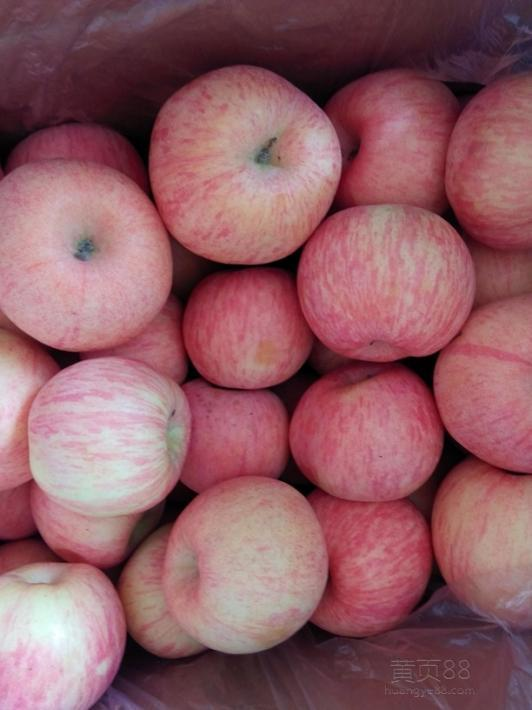apple: (148, 57, 343, 267), (1, 160, 176, 353), (159, 477, 334, 651), (296, 200, 475, 365), (26, 356, 194, 519), (320, 69, 463, 221), (285, 366, 444, 500), (305, 490, 433, 637), (1, 559, 127, 708), (430, 294, 532, 474), (428, 453, 531, 629), (184, 274, 314, 389), (180, 383, 287, 491)
